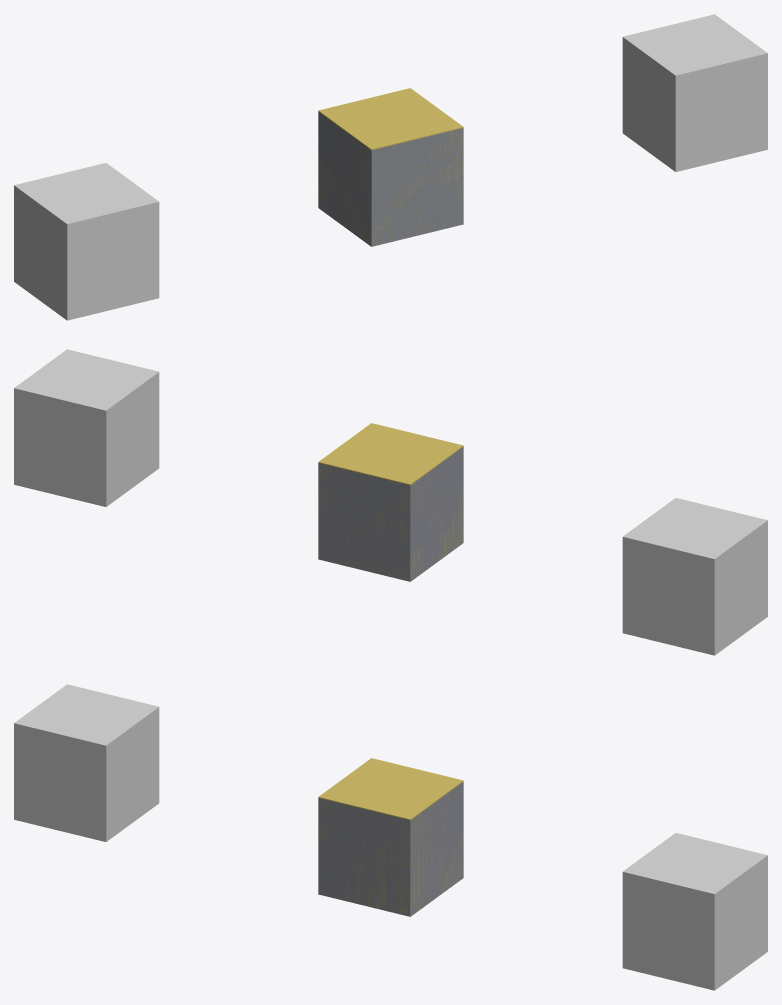
Rendered from inf_highway.glb.
3 views of the same model, one above another, from view 1: azimuth 30°, elevation 25°; view 2: azimuth 150°, elevation 25°; view 3: azimuth 330°, elevation 25° (orthographic).
Visible parts, largest first — view 1: world; view 2: world; view 3: world.
Boxes of the visible parts, bbox=[...] form: world: bbox=[14, 14, 767, 320]; world: bbox=[14, 349, 767, 655]; world: bbox=[14, 684, 767, 990].
Size of the model in its own units: 7.6 by 1.01 by 1.
